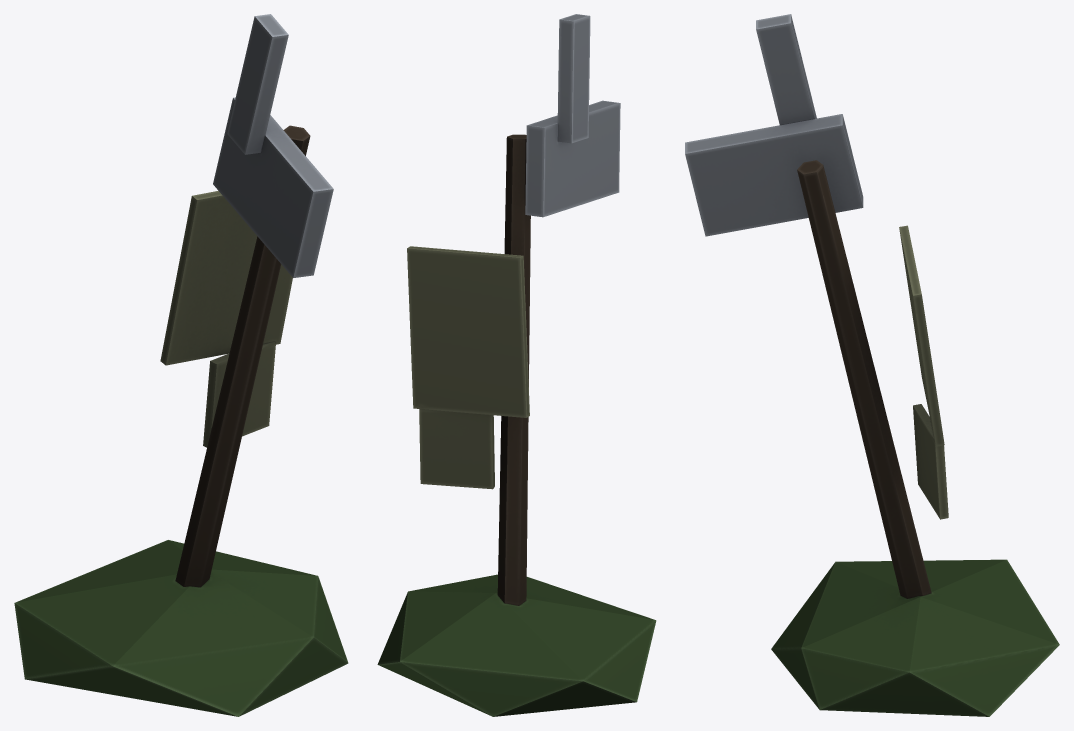
File: sign_captain_halberd.glb
The picture shows the model from 3 angles, left to right: view 1: azimuth 30°, elevation 25°; view 2: azimuth 150°, elevation 25°; view 3: azimuth 270°, elevation 25°; orthographic projection. The views are drawn at different scales.
Parts seen in each view (by area): view 1: sign_captain_halberd; view 2: sign_captain_halberd; view 3: sign_captain_halberd.
Part boxes in pixels (<box>): sign_captain_halberd: <box>14,14,348,716</box>; sign_captain_halberd: <box>377,14,656,716</box>; sign_captain_halberd: <box>685,14,1059,716</box>.
Size of the model in its own units: 0.6752 by 1.67 by 0.8372.
Materials: 1 (1 with a texture image).
